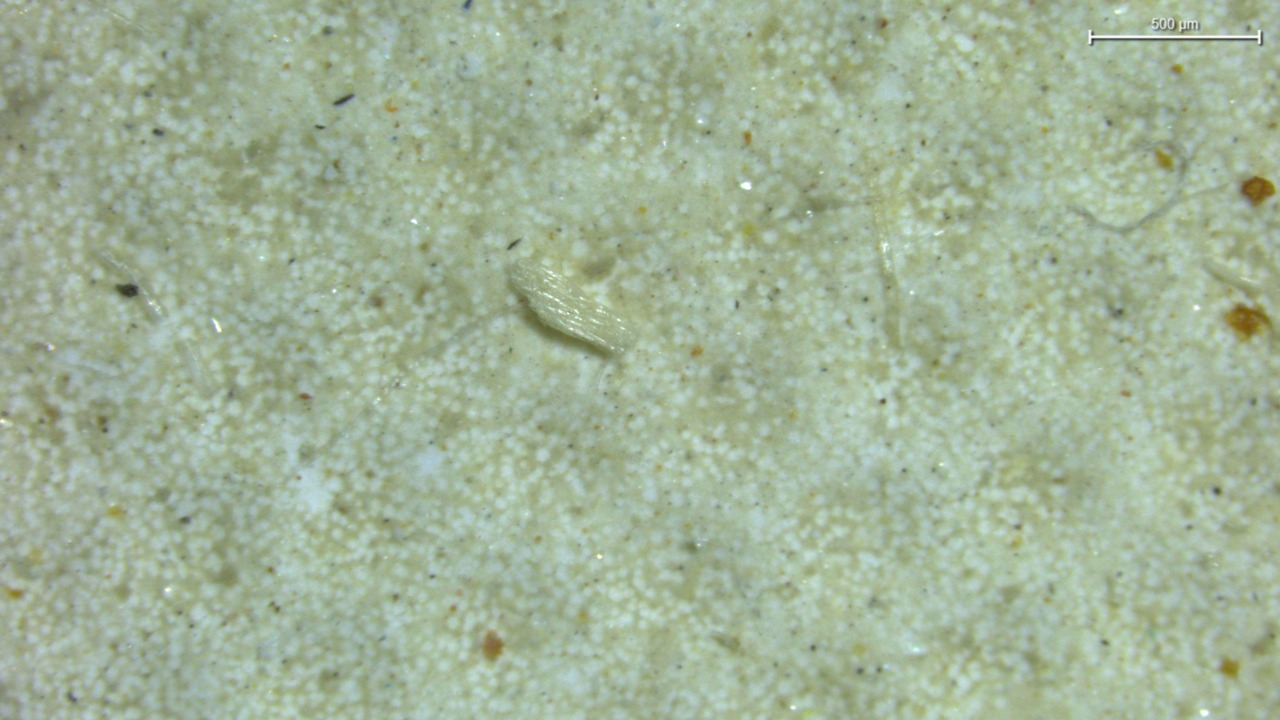microplastic_fragment: (506, 260, 636, 353)
